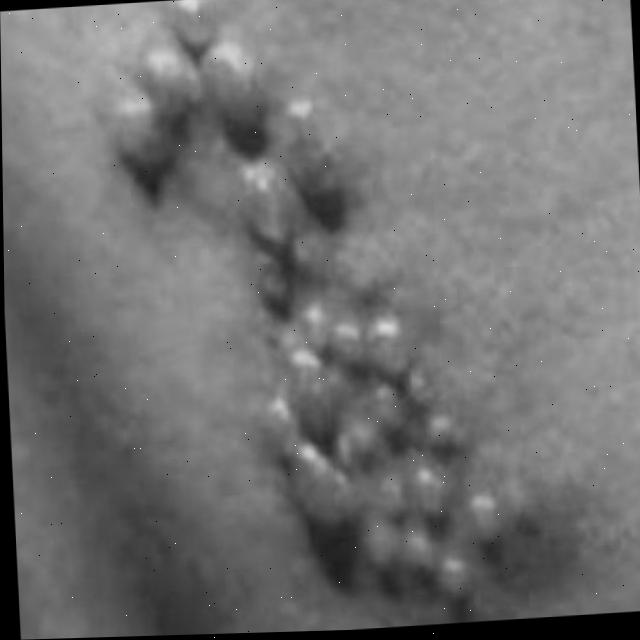Shingles: (113, 0, 517, 626)
